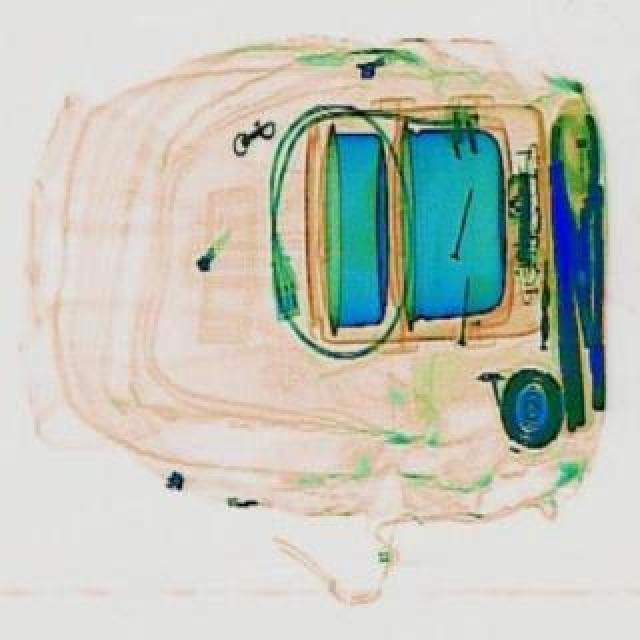wrench: (546, 112, 608, 344)
